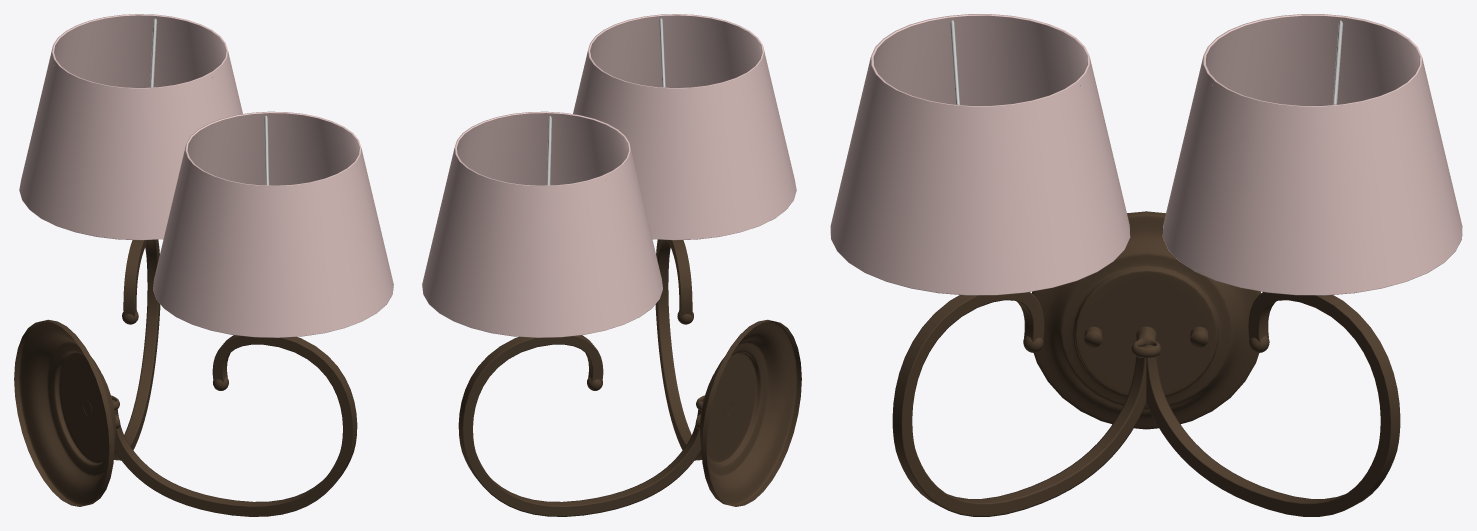
The model's file is Wall_Lamp.fbx.
The picture shows the model from 3 angles, left to right: view 1: azimuth 30°, elevation 25°; view 2: azimuth 150°, elevation 25°; view 3: azimuth 270°, elevation 25°; orthographic projection. The views are drawn at different scales.
Parts seen in each view (by area): view 1: torsher.001, torsher, Cylinder.004, crepej.001, crepej; view 2: torsher, torsher.001, Cylinder.004, crepej, crepej.001; view 3: torsher, torsher.001, Cylinder.004, crepej, crepej.001.
Part boxes in pixels (<box>): torsher.001: <box>153,111,393,337</box>; torsher: <box>19,14,242,240</box>; Cylinder.004: <box>14,319,120,506</box>; crepej.001: <box>112,335,357,516</box>; crepej: <box>112,239,160,460</box>; torsher: <box>422,111,662,337</box>; torsher.001: <box>573,14,796,240</box>; Cylinder.004: <box>695,319,801,506</box>; crepej: <box>458,335,703,516</box>; crepej.001: <box>655,239,703,460</box>; torsher: <box>1162,14,1462,295</box>; torsher.001: <box>830,14,1130,295</box>; Cylinder.004: <box>1032,211,1260,429</box>; crepej: <box>1137,292,1400,516</box>; crepej.001: <box>892,292,1155,516</box>.
Size of the model in its own units: 20.99 by 37.04 by 29.82.
